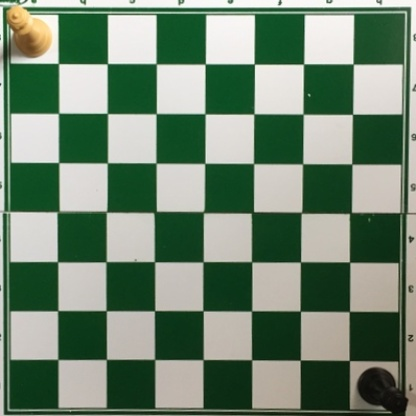black-queen: (358, 367, 410, 416)
white-queen: (4, 2, 53, 58)
